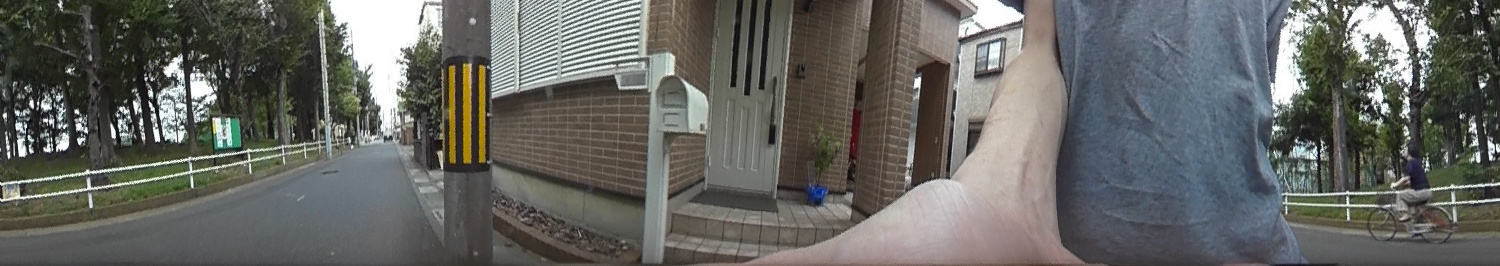person: (1388, 141, 1433, 228)
